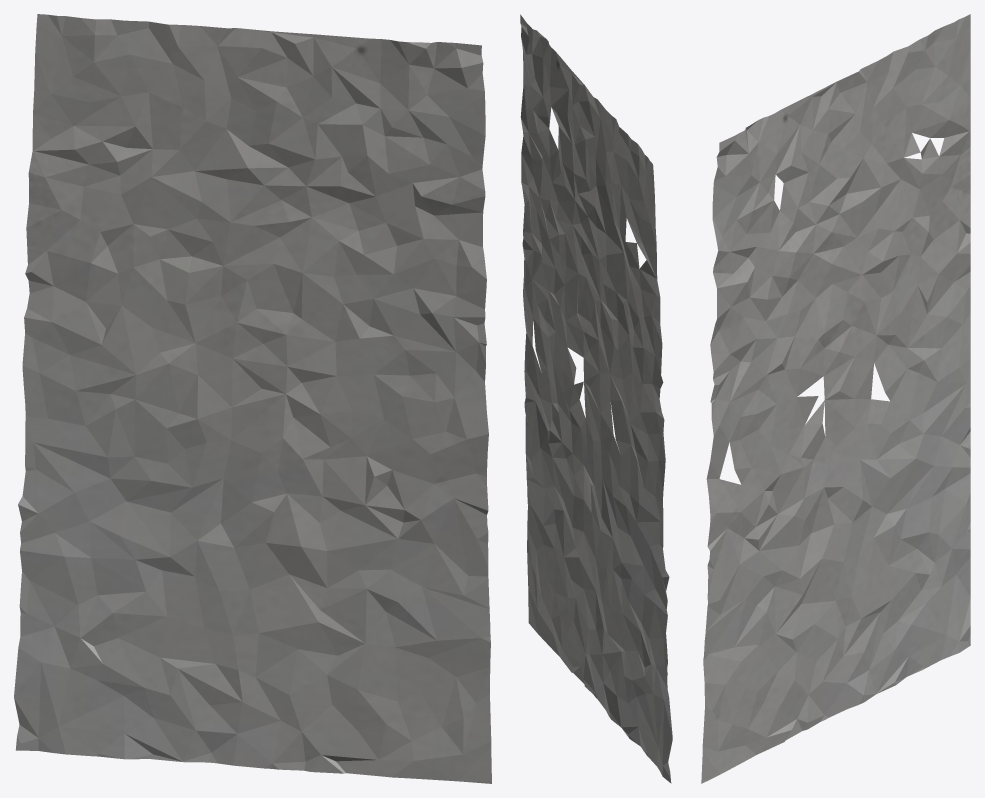
3 views of the same model, side by side, from view 1: azimuth 30°, elevation 25°; view 2: azimuth 150°, elevation 25°; view 3: azimuth 270°, elevation 25° (orthographic). The views are drawn at different scales.
Size of the model in its own units: 0.389 by 0.8374 by 0.3185.
2 materials, 2 textured.
